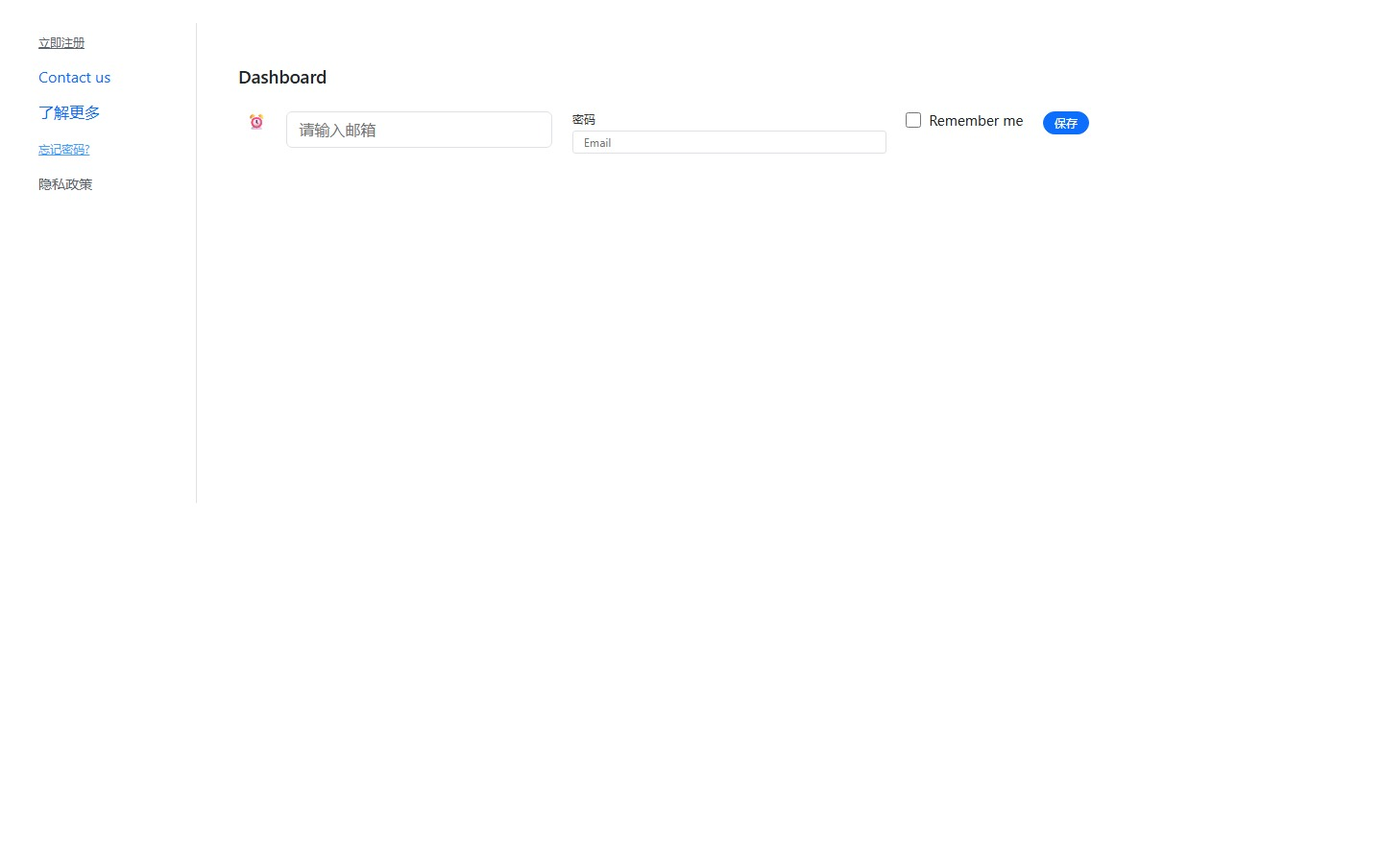button: (1043, 111, 1089, 134)
checkbox: (906, 113, 921, 128)
icon: (929, 111, 1023, 129), (246, 114, 267, 129)
input: (287, 111, 553, 148), (572, 130, 886, 153)
link: (38, 66, 110, 86), (38, 102, 100, 122), (38, 175, 92, 193), (38, 141, 90, 156), (38, 35, 85, 50)
radio: (906, 111, 1023, 129)
